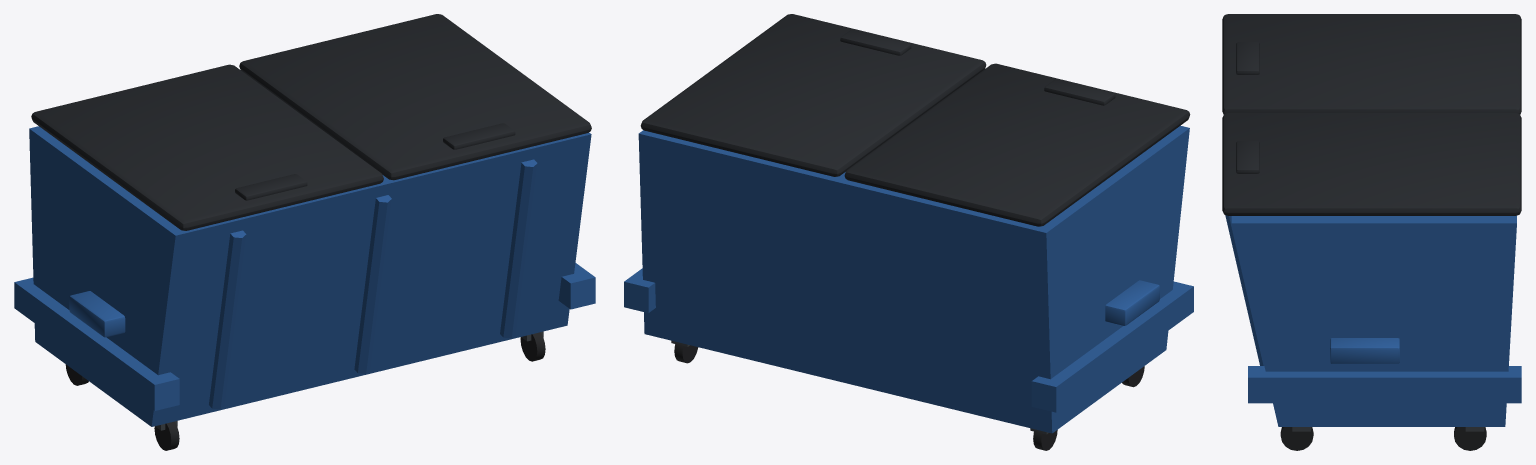
Rendered from dumpster.glb.
3 views of the same model, side by side, from view 1: azimuth 30°, elevation 25°; view 2: azimuth 150°, elevation 25°; view 3: azimuth 270°, elevation 25° (orthographic). The views are drawn at different scales.
Visible parts, largest first — view 1: Dumpster, Lid_R, Lid_L; view 2: Dumpster, Lid_R, Lid_L; view 3: Dumpster, Lid_L, Lid_R.
Part boxes in pixels (x1,y1,x2,y2): Dumpster: (14, 126, 595, 450); Lid_R: (31, 64, 383, 230); Lid_L: (239, 14, 591, 180); Dumpster: (624, 125, 1193, 450); Lid_R: (844, 63, 1190, 226); Lid_L: (640, 14, 986, 176); Dumpster: (1225, 215, 1521, 450); Lid_L: (1222, 113, 1521, 215); Lid_R: (1222, 14, 1521, 114).
Size of the model in its own units: 2.2 by 1.21 by 1.28.
